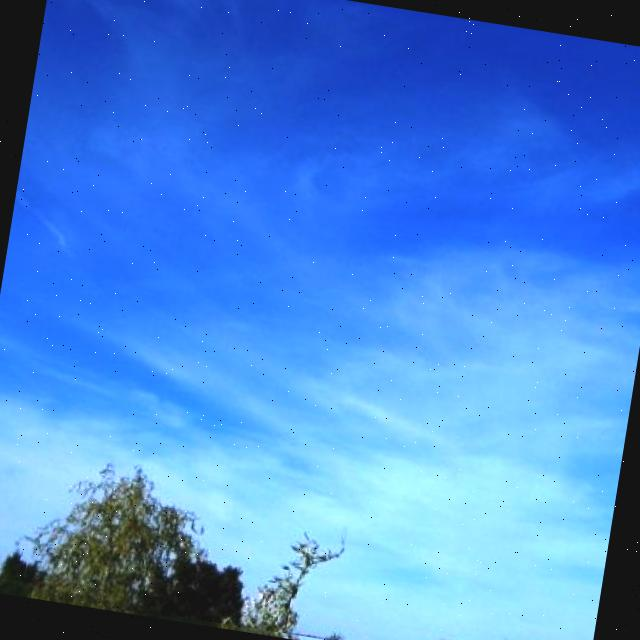Ci: (1, 1, 640, 528)
